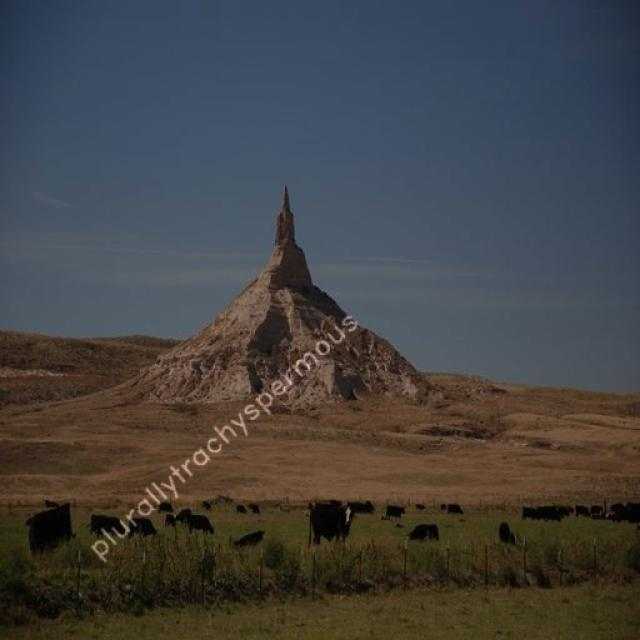watermark: (90, 299, 359, 564)
